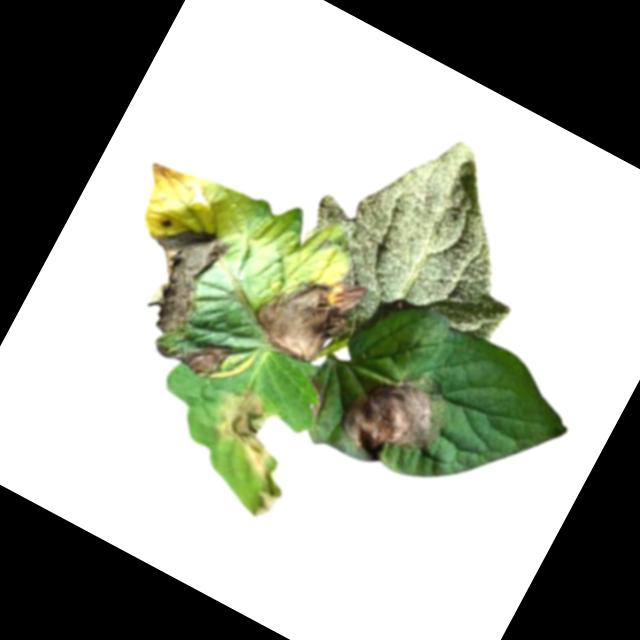Late_blight: (178, 375, 322, 525), (327, 346, 459, 477), (110, 203, 233, 341), (240, 244, 365, 372), (151, 313, 235, 386), (295, 373, 336, 420)
healthy: (272, 95, 570, 390)
